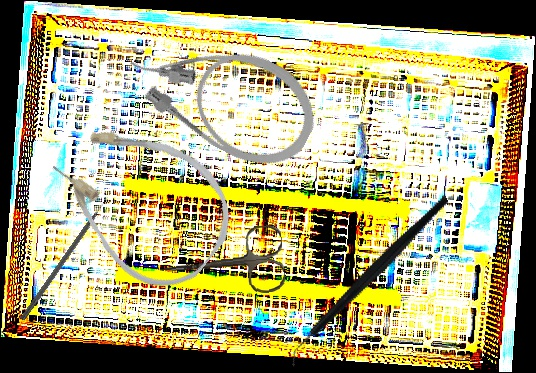Cannula: (29, 91, 255, 309), (114, 3, 332, 184)
Chopper: (254, 194, 486, 371)
Hook Surgical: (20, 195, 112, 322)
Iris Scissors: (156, 224, 287, 302)
